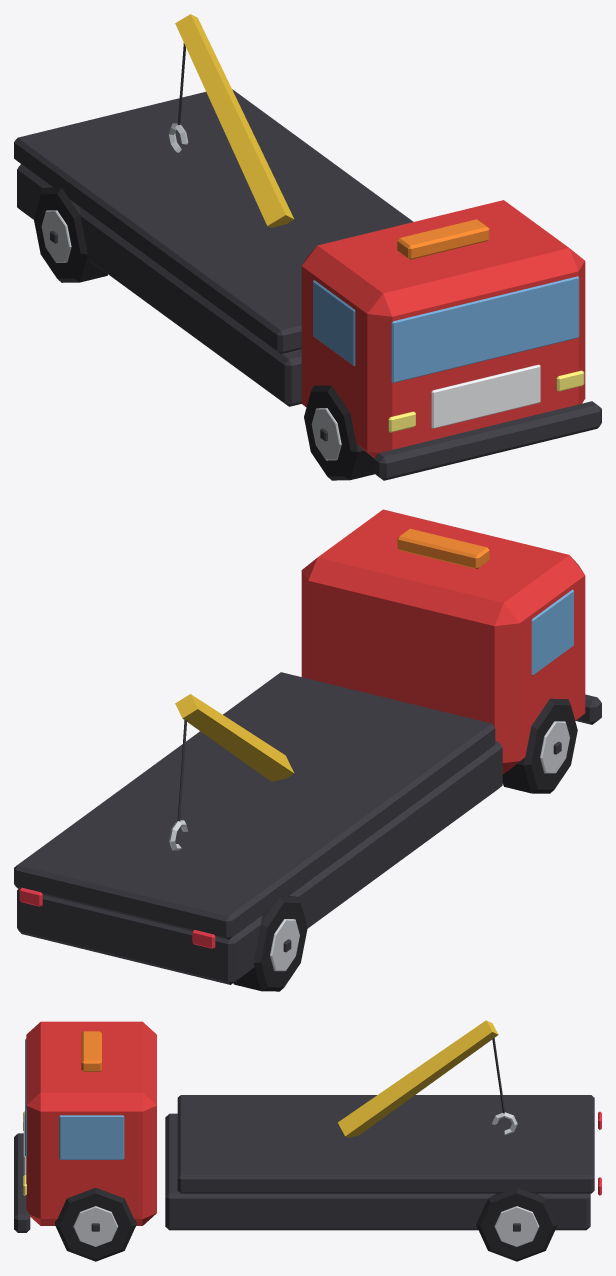
Rendered from TowTruck.fbx.
The picture shows the model from 3 angles, top to bottom: view 1: azimuth 30°, elevation 25°; view 2: azimuth 150°, elevation 25°; view 3: azimuth 270°, elevation 25°; orthographic projection. The views are drawn at different scales.
Visible parts, largest first — view 1: TowTruck, TowTruck_Boom, TowTruck_WheelFR, TowTruck_WheelBR; view 2: TowTruck, TowTruck_WheelFR, TowTruck_Boom, TowTruck_WheelBR; view 3: TowTruck, TowTruck_Boom, TowTruck_WheelBL, TowTruck_WheelFL.
Boxes of the visible parts, x1,y1,x2,y2 form: TowTruck: (14, 89, 601, 480); TowTruck_Boom: (169, 14, 294, 227); TowTruck_WheelFR: (304, 385, 374, 480); TowTruck_WheelBR: (34, 187, 107, 282); TowTruck: (14, 509, 601, 984); TowTruck_WheelFR: (502, 698, 577, 793); TowTruck_Boom: (169, 694, 294, 850); TowTruck_WheelBR: (233, 895, 307, 991); TowTruck: (14, 1021, 601, 1232); TowTruck_Boom: (337, 1020, 517, 1137); TowTruck_WheelBL: (476, 1187, 557, 1261); TowTruck_WheelFL: (55, 1187, 136, 1261).
Size of the model in its own units: 5.22 by 5.4 by 14.38.
Materials: 1 (1 with a texture image).
